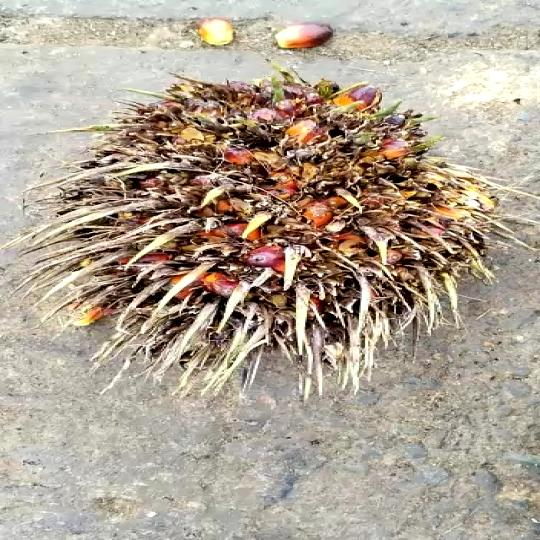terlalu masak: (31, 71, 499, 385)
